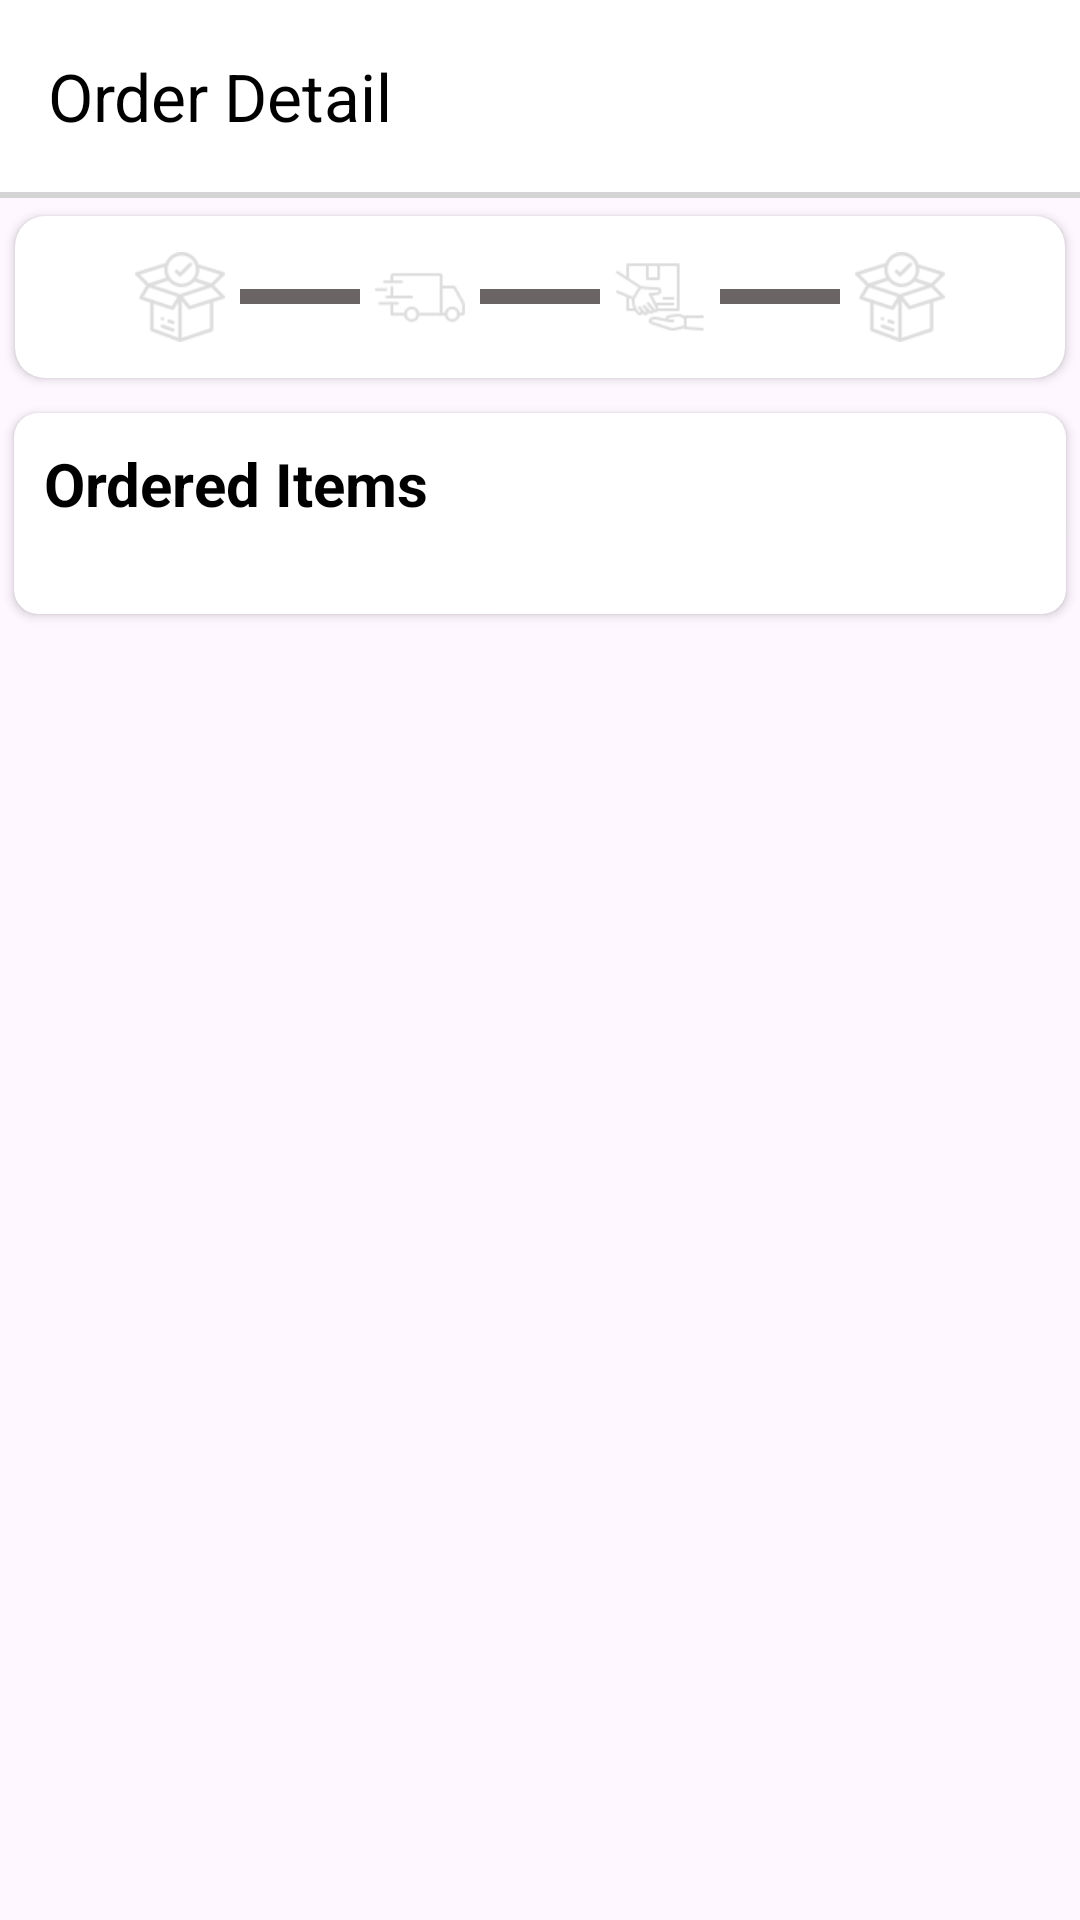

Screen size 1080x1920. Icon name, then its box in pixels as (x1, y1, x2, y2):
item ordered: (135, 252, 225, 342), (855, 252, 945, 342)
order dispatched: (375, 273, 465, 321)
order received: (617, 264, 703, 330)
